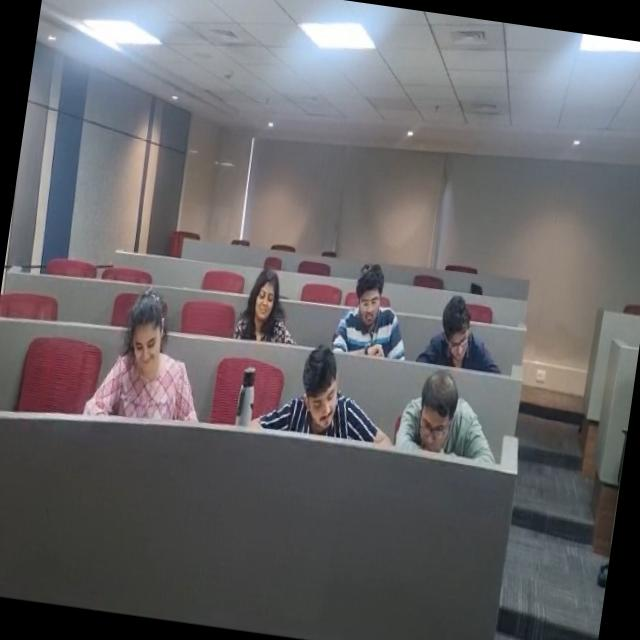cheating: (338, 242, 410, 370), (282, 328, 352, 449)
non-cheating: (109, 269, 192, 407), (392, 358, 488, 466), (419, 281, 495, 374), (236, 256, 300, 350)
